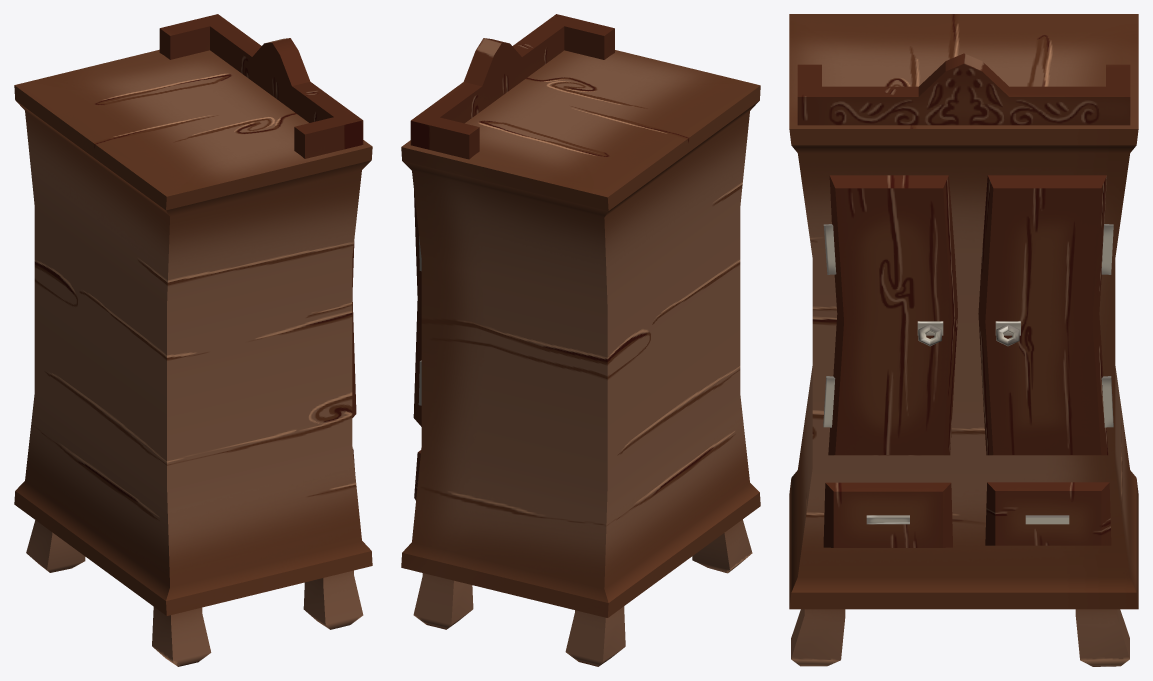
Rendered from PVB export kledingkast.fbx.
3 views of the same model, side by side, from view 1: azimuth 30°, elevation 25°; view 2: azimuth 150°, elevation 25°; view 3: azimuth 270°, elevation 25° (orthographic). The views are drawn at different scales.
Parts seen in each view (by area): view 1: base, detail_boven_op_kast, poot_links_achter, poot_links_voor, poot_rechts_achter; view 2: base, detail_boven_op_kast, poot_rechts_achter, poot_rechts_voor, poot_links_achter, deur_rechts; view 3: base, deur_rechts, deur_links, detail_boven_op_kast, lade_links_onder, lade_rechts_onder, poot_links_voor, poot_rechts_voor, scharnier_deur_rechts_1, scharnier_deur_rechts_2.
Boxes of the visible parts, left/top/right/bottom form: base: left=14, top=49, right=372, bottom=615; detail_boven_op_kast: left=159, top=14, right=363, bottom=158; poot_links_achter: left=152, top=607, right=211, bottom=666; poot_links_voor: left=303, top=570, right=363, bottom=629; poot_rechts_achter: left=26, top=520, right=85, bottom=572; base: left=401, top=50, right=760, bottom=617; detail_boven_op_kast: left=410, top=14, right=614, bottom=159; poot_rechts_achter: left=565, top=606, right=625, bottom=666; poot_rechts_voor: left=413, top=573, right=473, bottom=629; poot_links_achter: left=692, top=519, right=752, bottom=573; deur_rechts: left=413, top=191, right=421, bottom=426; base: left=789, top=14, right=1138, bottom=609; deur_rechts: left=978, top=175, right=1108, bottom=455; deur_links: left=828, top=175, right=957, bottom=455; detail_boven_op_kast: left=797, top=53, right=1130, bottom=125; lade_links_onder: left=823, top=482, right=952, bottom=547; lade_rechts_onder: left=985, top=482, right=1111, bottom=545; poot_links_voor: left=791, top=609, right=845, bottom=666; poot_rechts_voor: left=1075, top=609, right=1129, bottom=666; scharnier_deur_rechts_1: left=1101, top=224, right=1113, bottom=274; scharnier_deur_rechts_2: left=1101, top=376, right=1113, bottom=427.
Size of the model in its own units: 2.45 by 5.68 by 2.95.
1 material, 1 textured.
